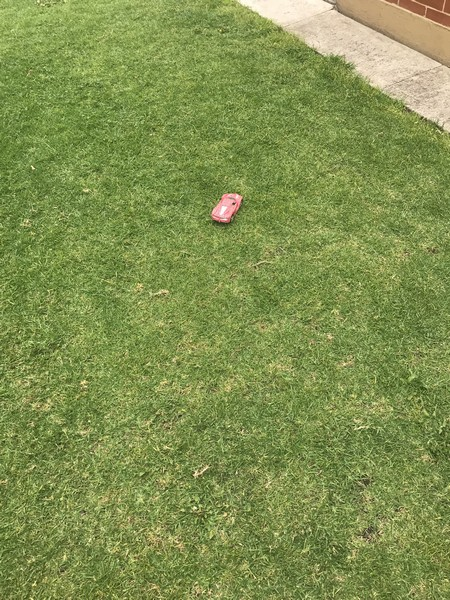RC: (210, 190, 243, 225)
